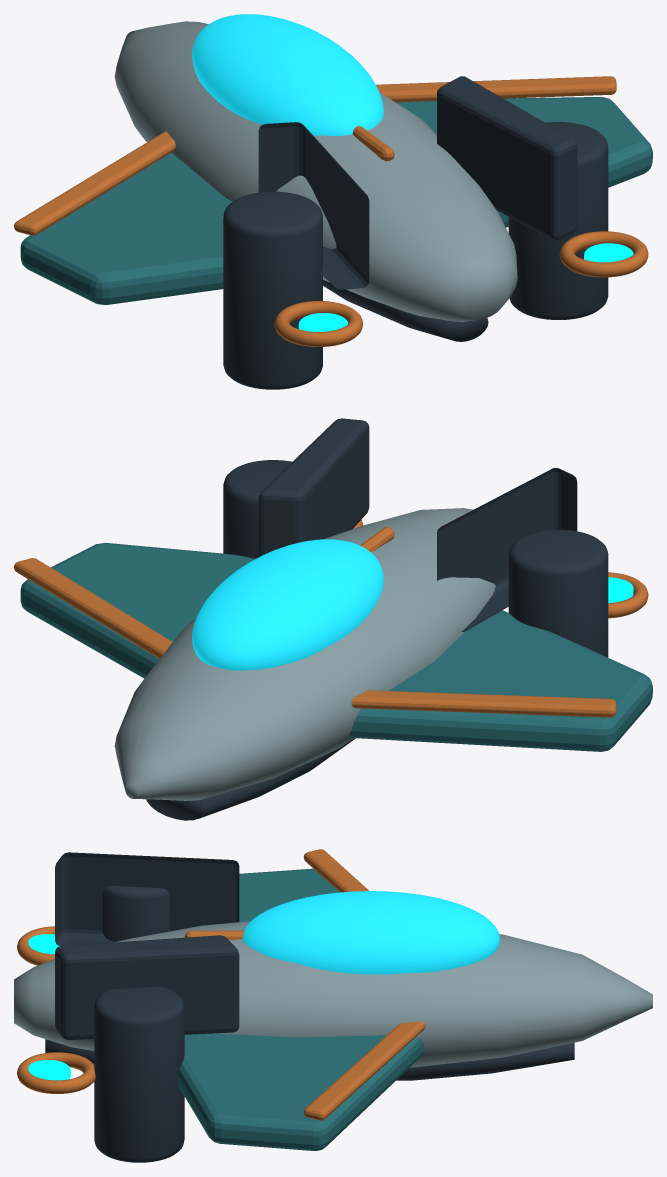
Rendered from pulseRunnerCraftV5.candidate.glb.
The picture shows the model from 3 angles, top to bottom: view 1: azimuth 30°, elevation 25°; view 2: azimuth 150°, elevation 25°; view 3: azimuth 270°, elevation 25°; orthographic projection. The views are drawn at different scales.
Visible parts, largest first — view 1: runner continuous lifting fuselage, runner continuous swept foil -1, runner recessed turbine nacelle -1, runner integrated canopy, runner vertical stabilizer 1, runner recessed turbine nacelle 1, runner vertical stabilizer -1, runner continuous swept foil 1, runner copper foil edge -1, runner copper foil edge 1, runner turbine heat ring 1, runner turbine heat ring -1 (+4 smaller); view 2: runner continuous lifting fuselage, runner continuous swept foil -1, runner integrated canopy, runner continuous swept foil 1, runner vertical stabilizer 1, runner recessed turbine nacelle -1, runner vertical stabilizer -1, runner copper foil edge -1, runner recessed turbine nacelle 1, runner copper foil edge 1, runner continuous ventral keel, runner turbine heat ring -1; view 3: runner continuous lifting fuselage, runner continuous swept foil 1, runner integrated canopy, runner recessed turbine nacelle 1, runner vertical stabilizer 1, runner vertical stabilizer -1, runner recessed turbine nacelle -1, runner continuous swept foil -1, runner continuous ventral keel, runner copper foil edge 1, runner turbine heat ring 1, runner copper foil edge -1 (+3 smaller).
Part boxes in pixels (x1,y1,x2,y2): runner continuous lifting fuselage: (114, 21, 517, 321); runner continuous swept foil -1: (20, 152, 232, 304); runner recessed turbine nacelle -1: (223, 191, 322, 389); runner integrated canopy: (192, 14, 383, 135); runner vertical stabilizer 1: (437, 76, 577, 240); runner recessed turbine nacelle 1: (508, 122, 608, 319); runner vertical stabilizer -1: (258, 122, 369, 289); runner continuous swept foil 1: (396, 97, 652, 227); runner copper foil edge -1: (14, 131, 175, 235); runner copper foil edge 1: (376, 76, 616, 102); runner turbine heat ring 1: (559, 231, 648, 277); runner turbine heat ring -1: (274, 301, 362, 346); runner continuous lifting fuselage: (114, 508, 495, 800); runner continuous swept foil -1: (348, 610, 652, 751); runner integrated canopy: (192, 539, 383, 670); runner continuous swept foil 1: (20, 542, 255, 678); runner vertical stabilizer 1: (258, 418, 369, 556); runner recessed turbine nacelle -1: (508, 529, 608, 657); runner vertical stabilizer -1: (437, 468, 577, 631); runner copper foil edge -1: (351, 690, 616, 717); runner recessed turbine nacelle 1: (223, 460, 291, 558); runner copper foil edge 1: (14, 558, 172, 658); runner continuous ventral keel: (146, 738, 355, 820); runner turbine heat ring -1: (608, 572, 648, 618); runner continuous lifting fuselage: (14, 921, 652, 1067); runner continuous swept foil 1: (178, 1033, 424, 1150); runner integrated canopy: (242, 891, 499, 974); runner recessed turbine nacelle 1: (94, 986, 184, 1162); runner vertical stabilizer 1: (55, 935, 239, 1039); runner vertical stabilizer -1: (55, 852, 239, 946); runner recessed turbine nacelle -1: (102, 886, 169, 941); runner continuous swept foil -1: (239, 868, 339, 922); runner continuous ventral keel: (45, 1039, 574, 1080); runner copper foil edge 1: (303, 1021, 425, 1120); runner turbine heat ring 1: (17, 1052, 95, 1093); runner copper foil edge -1: (303, 849, 368, 892).
Size of the model in its own units: 3.2 by 1.03 by 3.26.
